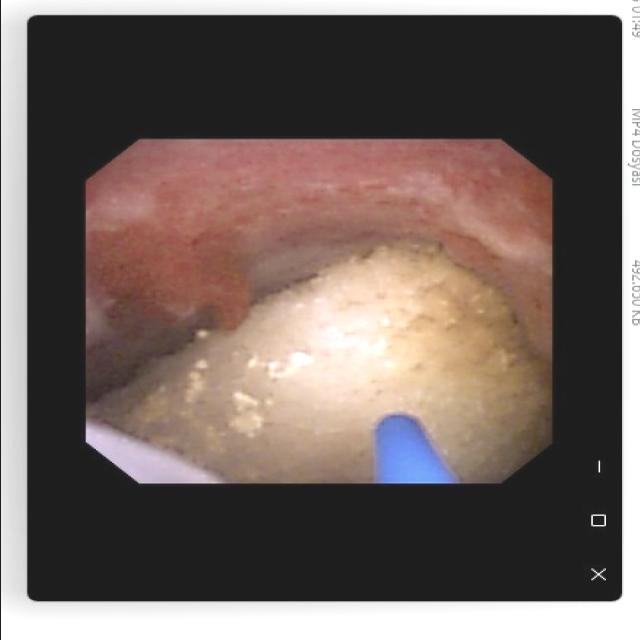fiber: (378, 417, 452, 480)
stone: (97, 249, 543, 480)
tissue: (91, 143, 544, 383)
